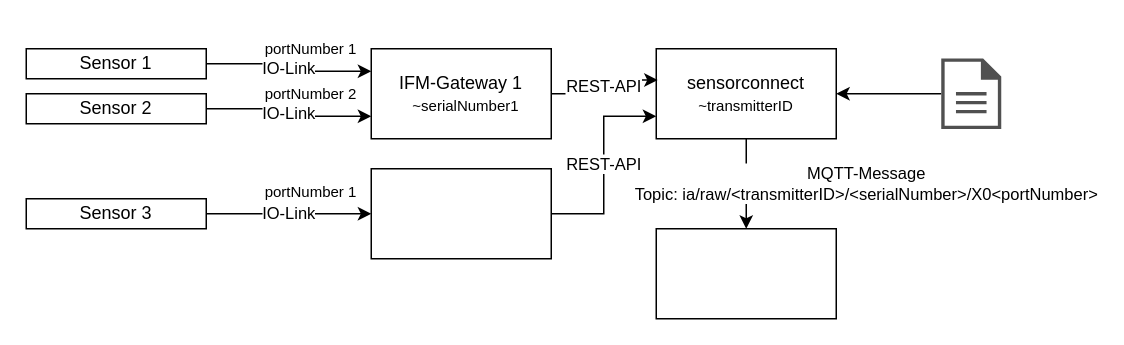
Some shapes in this 1124 by 345 pixel diagram are drawn without their labels. Here are the shapes that lost their labels. From the top down, the centre of each, then its label:
At (x=970, y=93): "IODD-Files from manufacturer".
At (x=460, y=213): "IFM-Gateway 2 ~serialNumber2".
At (x=745, y=273): "MQTT-Broker".
